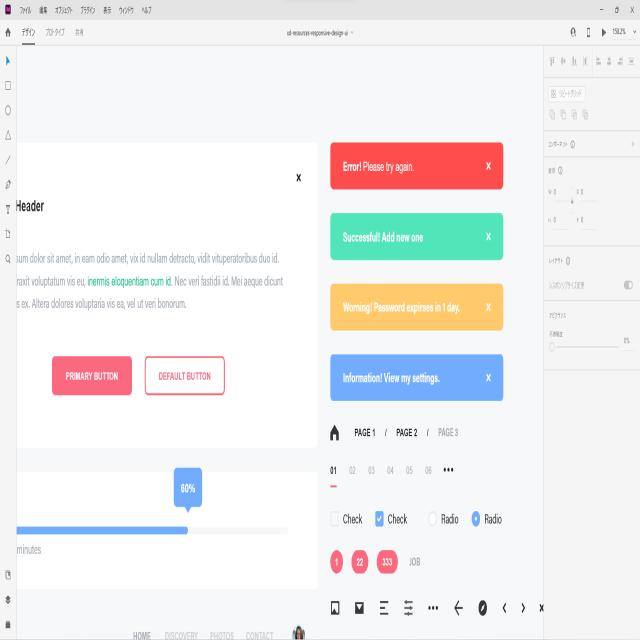checkbox: (374, 509, 386, 527)
radio: (471, 510, 481, 526)
